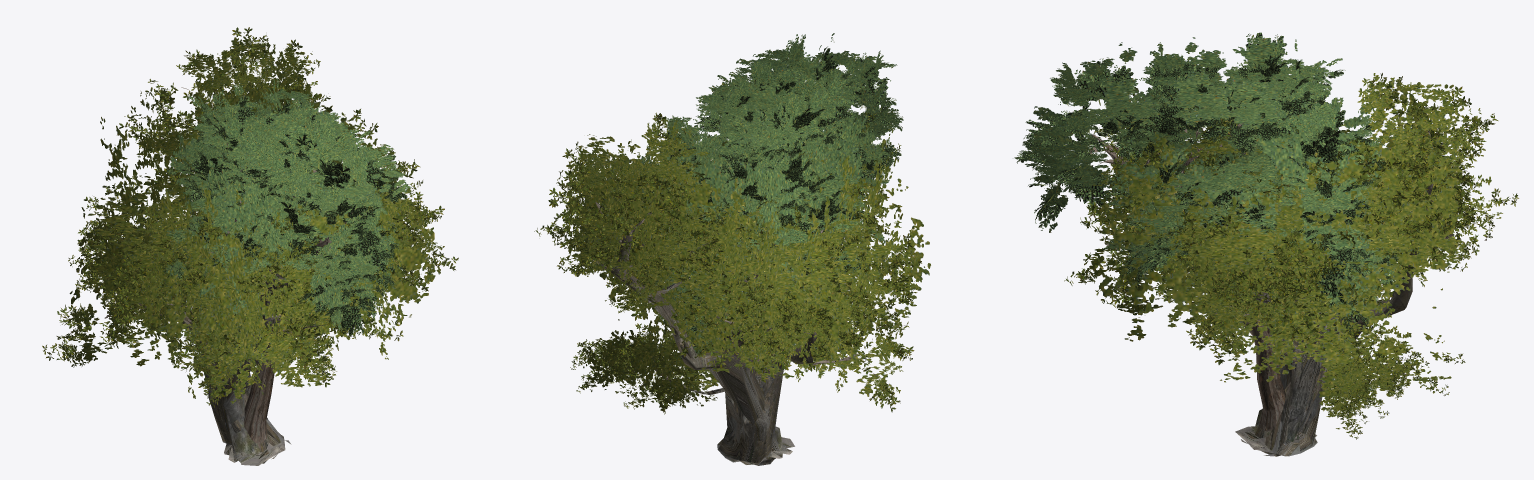
The model's file is island-trees.gltf.
3 renders of one model, left to right at view 1: azimuth 30°, elevation 25°; view 2: azimuth 150°, elevation 25°; view 3: azimuth 270°, elevation 25°, orthographic. The views are drawn at different scales.
Parts seen in each view (by area): view 1: coastal-native-grove, coastal-native-middle, coastal-native-source, burkea-native-middle, burkea-native-grove, burkea-native-source, coastal-native-distant; view 2: coastal-native-middle, coastal-native-grove, coastal-native-source, burkea-native-middle, burkea-native-grove, burkea-native-source, coastal-native-distant; view 3: coastal-native-middle, coastal-native-source, coastal-native-grove, burkea-native-middle, burkea-native-source, burkea-native-grove, coastal-native-distant.
Part boxes in pixels (box(x1,y1,x2,y2)): coastal-native-grove: box(65, 39, 435, 403); coastal-native-middle: box(56, 35, 444, 455); coastal-native-source: box(42, 27, 458, 465); burkea-native-middle: box(165, 79, 410, 331); burkea-native-grove: box(165, 78, 408, 330); burkea-native-source: box(163, 95, 410, 450); coastal-native-distant: box(138, 276, 284, 464); coastal-native-middle: box(549, 90, 919, 462); coastal-native-grove: box(558, 112, 930, 414); coastal-native-source: box(534, 79, 921, 465); burkea-native-middle: box(618, 33, 899, 352); burkea-native-grove: box(640, 33, 898, 353); burkea-native-source: box(610, 46, 903, 371); coastal-native-distant: box(596, 262, 800, 463); coastal-native-middle: box(1078, 73, 1502, 456); coastal-native-source: box(1064, 73, 1518, 456); coastal-native-grove: box(1087, 79, 1492, 421); burkea-native-middle: box(1019, 36, 1394, 390); burkea-native-source: box(1014, 32, 1398, 431); burkea-native-grove: box(1021, 37, 1394, 321); coastal-native-distant: box(1192, 238, 1446, 453).
Size of the model in its own units: 1.04 by 1.01 by 1.17.
12 materials, 12 textured.
